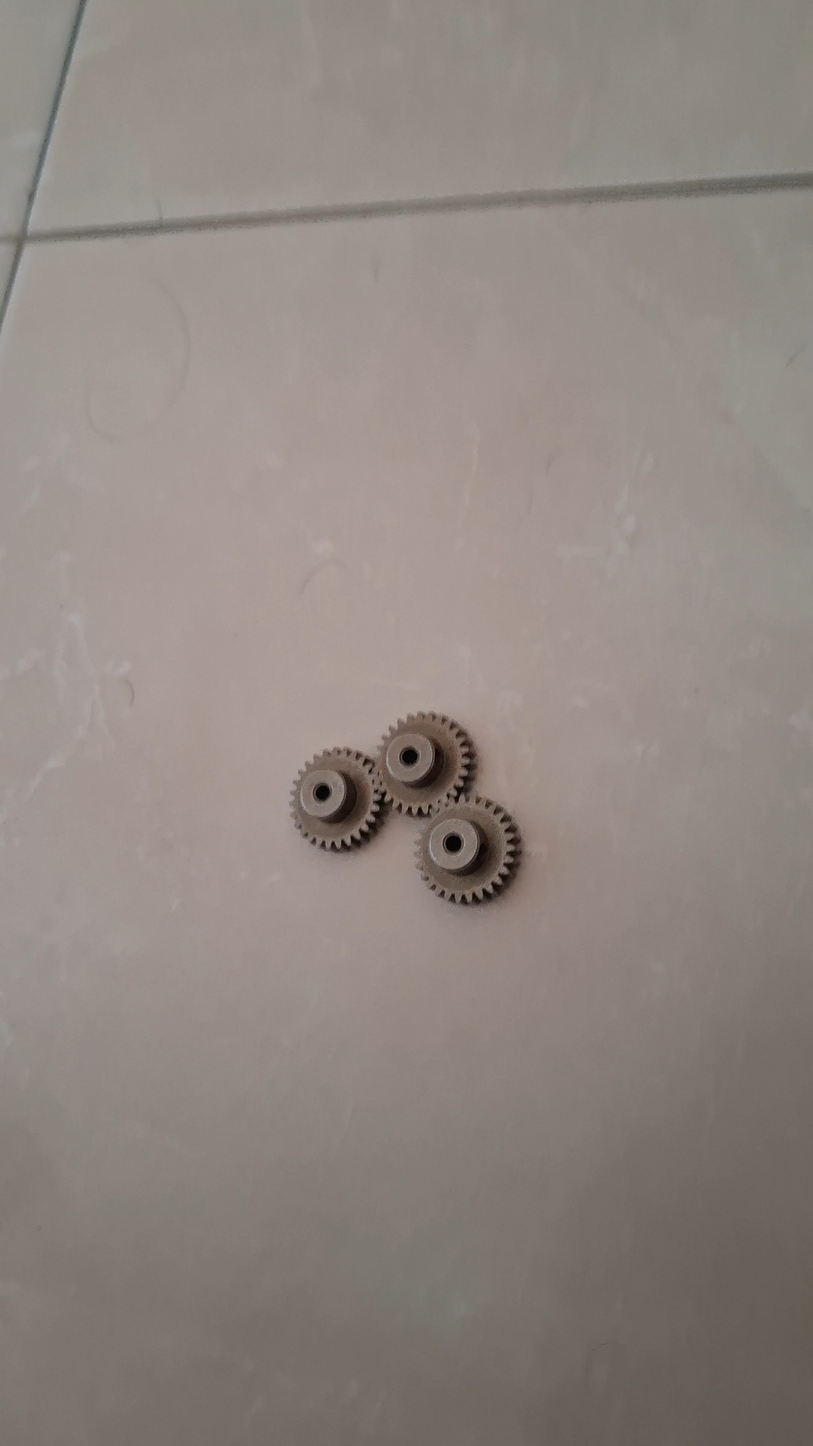spur gear: (416, 797, 520, 903), (378, 712, 474, 815), (292, 748, 382, 850)
